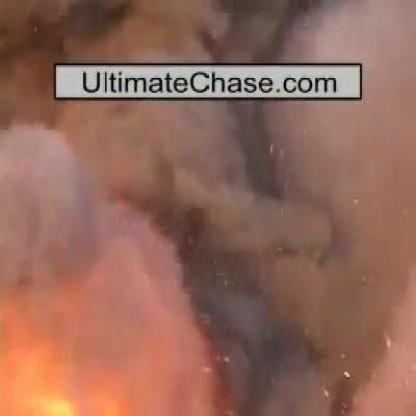-: (4, 105, 391, 371), (36, 3, 368, 62)
